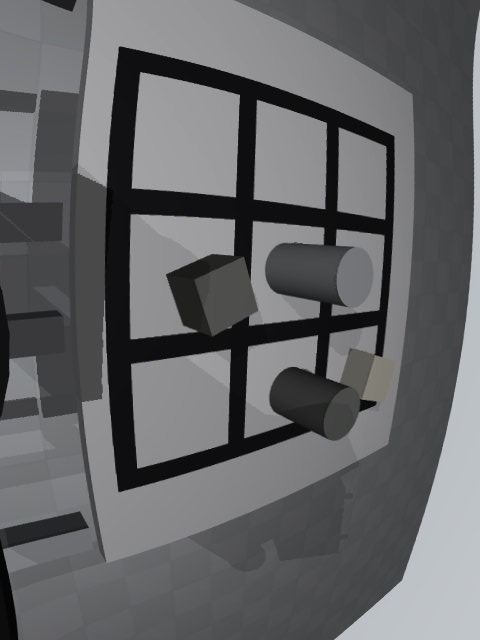can: (265, 243, 374, 308)
cube: (166, 254, 258, 336)
cylinder: (270, 367, 361, 441)
foam: (340, 348, 396, 403)
